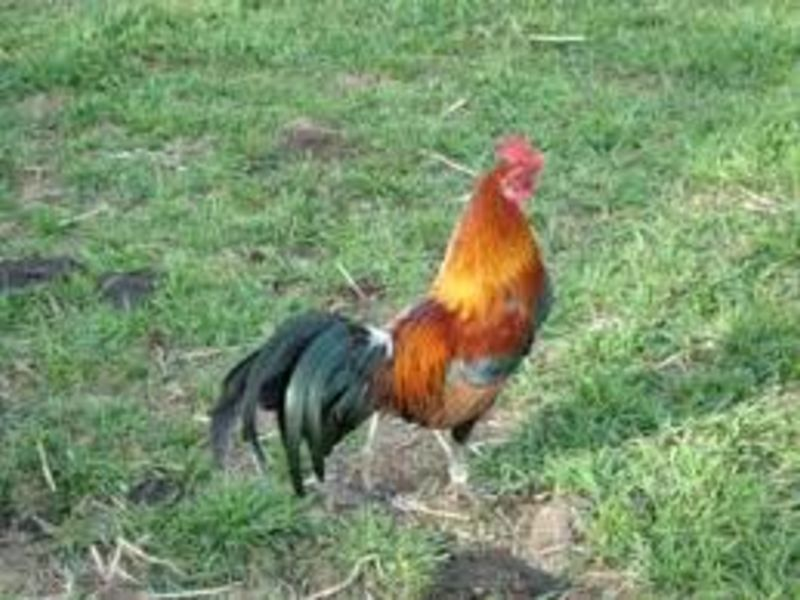hen: (204, 137, 564, 511)
